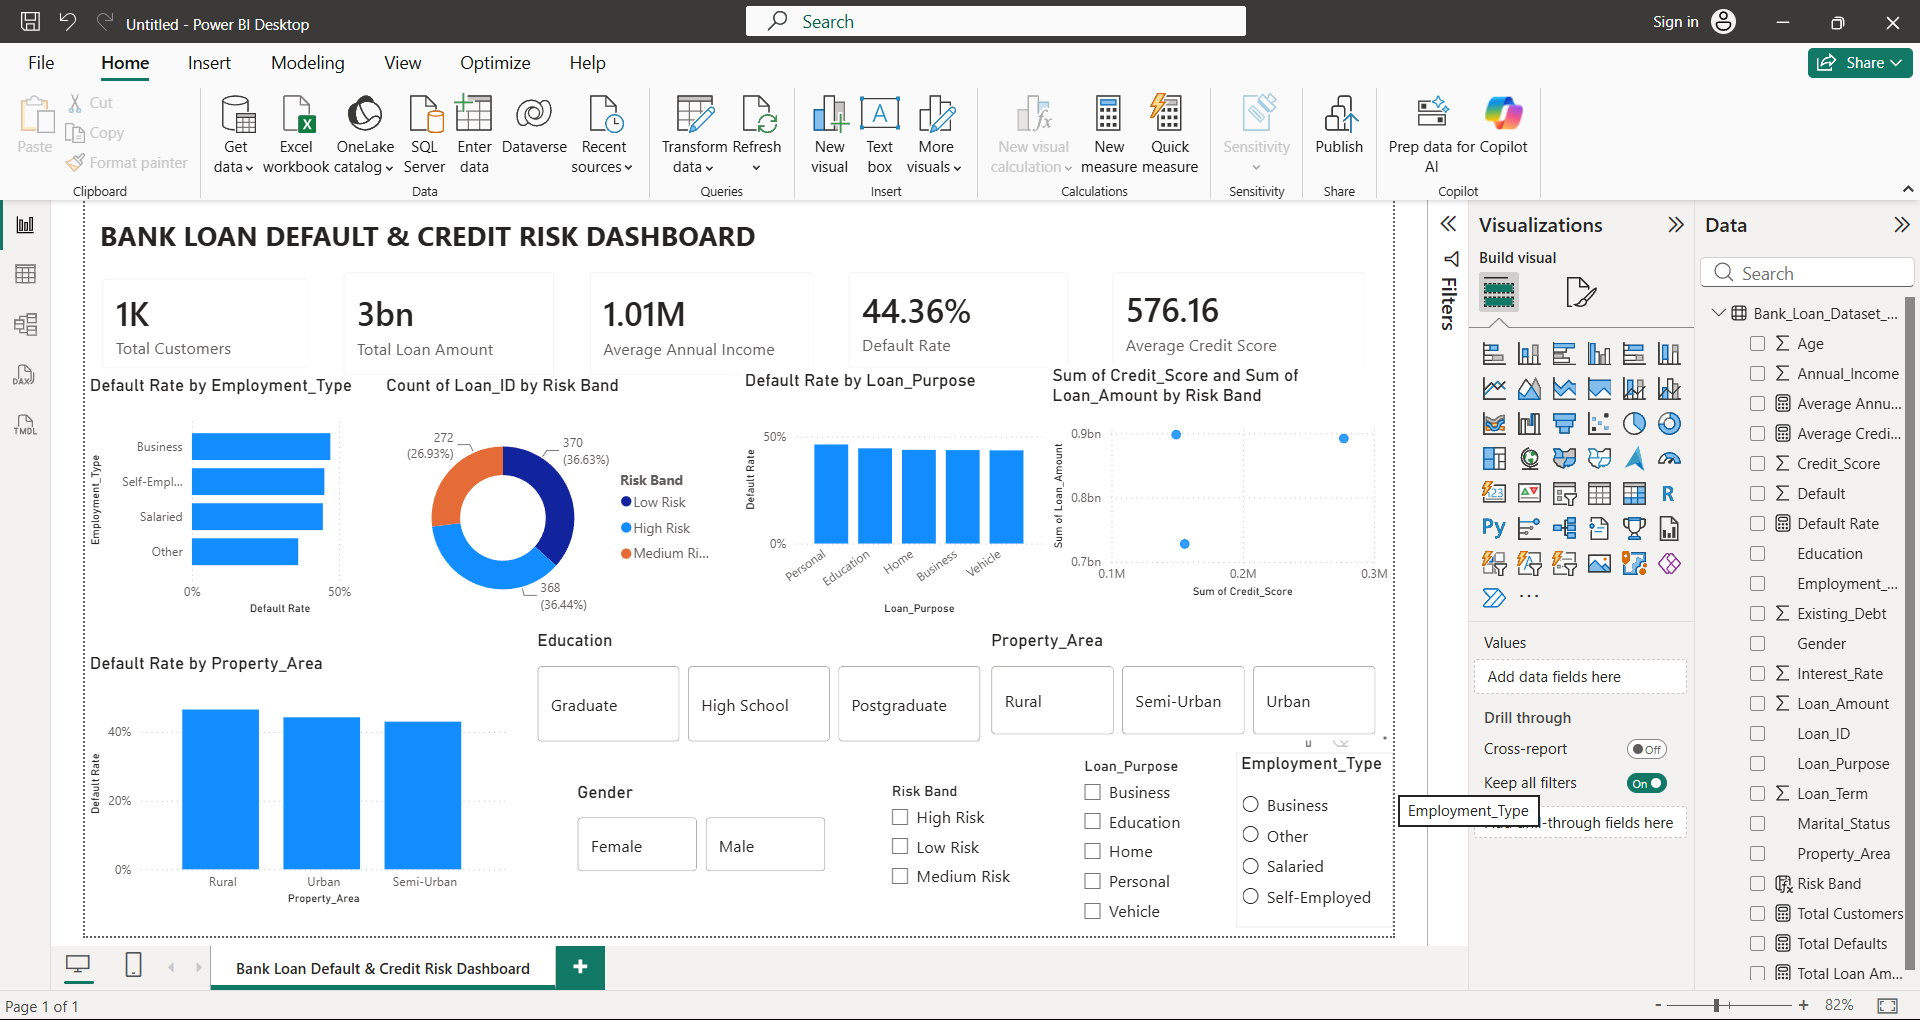

Layout of this report page (visuals, bound fields, positions):
{"tool":"powerbi","page":{"name":"Bank Loan Default & Credit Risk Dashboard","canvas":[1280,720],"ordinal":0},"visuals":[{"type":"cardVisual","fields":{"Data":["Bank_Loan_Dataset_PowerBI.Total Customers"]},"box":[0,59.9,236,122.3],"z":0},{"type":"cardVisual","fields":{"Data":["Bank_Loan_Dataset_PowerBI.Total Loan Amount"]},"box":[236,53.8,240.9,135.7],"z":1000},{"type":"cardVisual","fields":{"Data":["Bank_Loan_Dataset_PowerBI.Average Annual Income"]},"box":[476.9,53.8,253.1,135.7],"z":2000},{"type":"cardVisual","fields":{"Data":["Bank_Loan_Dataset_PowerBI.Average Credit Score"]},"box":[988,53.8,281.3,127.2],"z":3000},{"type":"cardVisual","fields":{"Data":["Bank_Loan_Dataset_PowerBI.Default Rate"]},"box":[730,53.8,249.5,128.4],"z":4000},{"type":"clusteredColumnChart","title":"Default Rate by Loan Purpose","fields":{"Category":["Bank_Loan_Dataset_PowerBI.Loan_Purpose"],"Y":["Bank_Loan_Dataset_PowerBI.Default Rate"]},"box":[640.8,166.3,300.8,244.6],"z":5000},{"type":"donutChart","title":"Risk Band Distribution","fields":{"Category":["Bank_Loan_Dataset_PowerBI.Risk Band"],"Y":["CountNonNull(Bank_Loan_Dataset_PowerBI.Loan_ID)"]},"box":[289.8,171.2,337.5,249.5],"z":6000},{"type":"scatterChart","title":"Credit Score vs Loan Amount","fields":{"X":["Sum(Bank_Loan_Dataset_PowerBI.Credit_Score)"],"Y":["Sum(Bank_Loan_Dataset_PowerBI.Loan_Amount)"],"Category":["Bank_Loan_Dataset_PowerBI.Risk Band"]},"box":[941.6,161.4,338.7,232.3],"z":7000},{"type":"columnChart","fields":{"Category":["Bank_Loan_Dataset_PowerBI.Property_Area"],"Y":["Bank_Loan_Dataset_PowerBI.Default Rate"]},"box":[0,442.7,417,251.9],"z":8000},{"type":"advancedSlicerVisual","fields":{"Values":["Bank_Loan_Dataset_PowerBI.Gender"]},"box":[476.9,568.6,253.1,94.2],"z":9000},{"type":"listSlicer","fields":{"Values":["Bank_Loan_Dataset_PowerBI.Employment_Type"]},"box":[1126.2,540.5,154.1,171.2],"z":10000},{"type":"advancedSlicerVisual","fields":{"Values":["Bank_Loan_Dataset_PowerBI.Education"]},"box":[437.8,420.7,443.9,114.9],"z":11000},{"type":"advancedSlicerVisual","fields":{"Values":["Bank_Loan_Dataset_PowerBI.Property_Area"]},"box":[881.7,420.7,387.6,107.6],"z":12000},{"type":"slicer","fields":{"Values":["Bank_Loan_Dataset_PowerBI.Loan_Purpose"]},"box":[964.8,540.5,146.7,177.3],"z":13000},{"type":"textbox","box":[9.8,11,897.6,58.7],"z":14000},{"type":"slicer","fields":{"Values":["Bank_Loan_Dataset_PowerBI.Risk Band"]},"box":[776.5,564.9,188.3,129.6],"z":15000},{"type":"barChart","title":"Default Rate by Employment Type","fields":{"Category":["Bank_Loan_Dataset_PowerBI.Employment_Type"],"Y":["Bank_Loan_Dataset_PowerBI.Default Rate"]},"box":[0,171.2,289.8,239.7],"z":16000}]}

Visuals, with their boxes on the page's 1280x720 design canvas (x1, y1, x2, y2). These are canvas units, not pixel positions in the 1920x1020 screenshot, which may show the page scaled, cropped or inside an application window:
cardVisual - Bank_Loan_Dataset_PowerBI.Total Customers: bbox(0, 60, 236, 182)
cardVisual - Bank_Loan_Dataset_PowerBI.Total Loan Amount: bbox(236, 54, 477, 190)
cardVisual - Bank_Loan_Dataset_PowerBI.Average Annual Income: bbox(477, 54, 730, 190)
cardVisual - Bank_Loan_Dataset_PowerBI.Average Credit Score: bbox(988, 54, 1269, 181)
cardVisual - Bank_Loan_Dataset_PowerBI.Default Rate: bbox(730, 54, 980, 182)
"Default Rate by Loan Purpose" clusteredColumnChart: bbox(641, 166, 942, 411)
"Risk Band Distribution" donutChart: bbox(290, 171, 627, 421)
"Credit Score vs Loan Amount" scatterChart: bbox(942, 161, 1280, 394)
columnChart - Bank_Loan_Dataset_PowerBI.Property_Area x Bank_Loan_Dataset_PowerBI.Default Rate: bbox(0, 443, 417, 695)
advancedSlicerVisual - Bank_Loan_Dataset_PowerBI.Gender: bbox(477, 569, 730, 663)
listSlicer - Bank_Loan_Dataset_PowerBI.Employment_Type: bbox(1126, 540, 1280, 712)
advancedSlicerVisual - Bank_Loan_Dataset_PowerBI.Education: bbox(438, 421, 882, 536)
advancedSlicerVisual - Bank_Loan_Dataset_PowerBI.Property_Area: bbox(882, 421, 1269, 528)
slicer - Bank_Loan_Dataset_PowerBI.Loan_Purpose: bbox(965, 540, 1112, 718)
textbox: bbox(10, 11, 907, 70)
slicer - Bank_Loan_Dataset_PowerBI.Risk Band: bbox(776, 565, 965, 694)
"Default Rate by Employment Type" barChart: bbox(0, 171, 290, 411)
